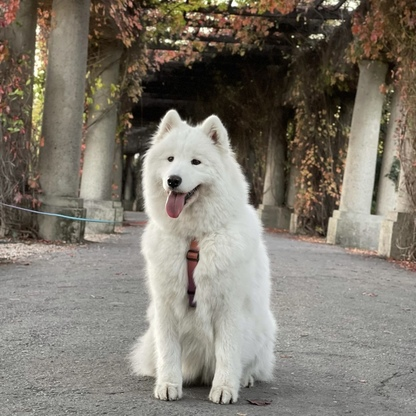samoyed: (122, 104, 285, 410)
